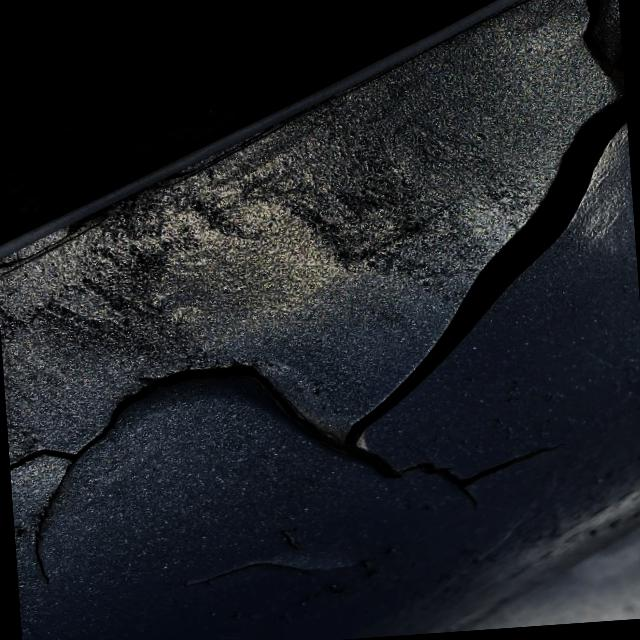crack: (308, 124, 640, 435), (22, 342, 314, 504), (331, 424, 553, 514)
